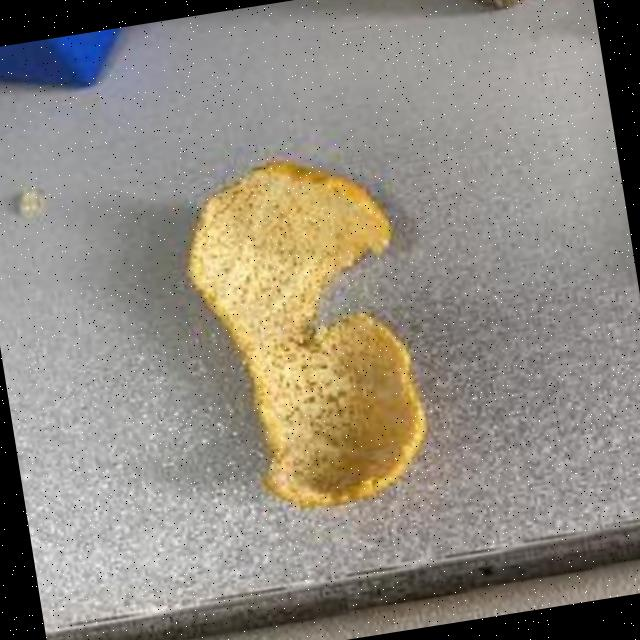orange-peel: (169, 140, 441, 524)
